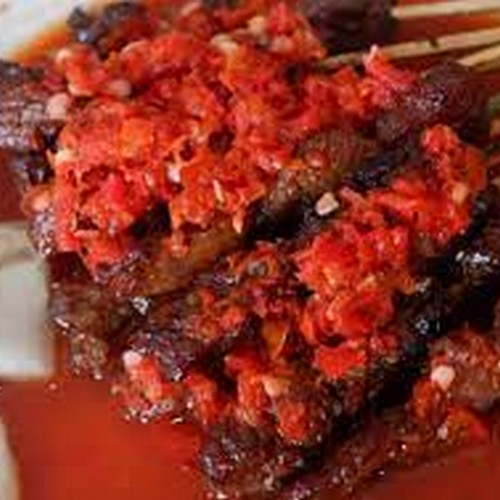sate plecing: (9, 19, 476, 500)
